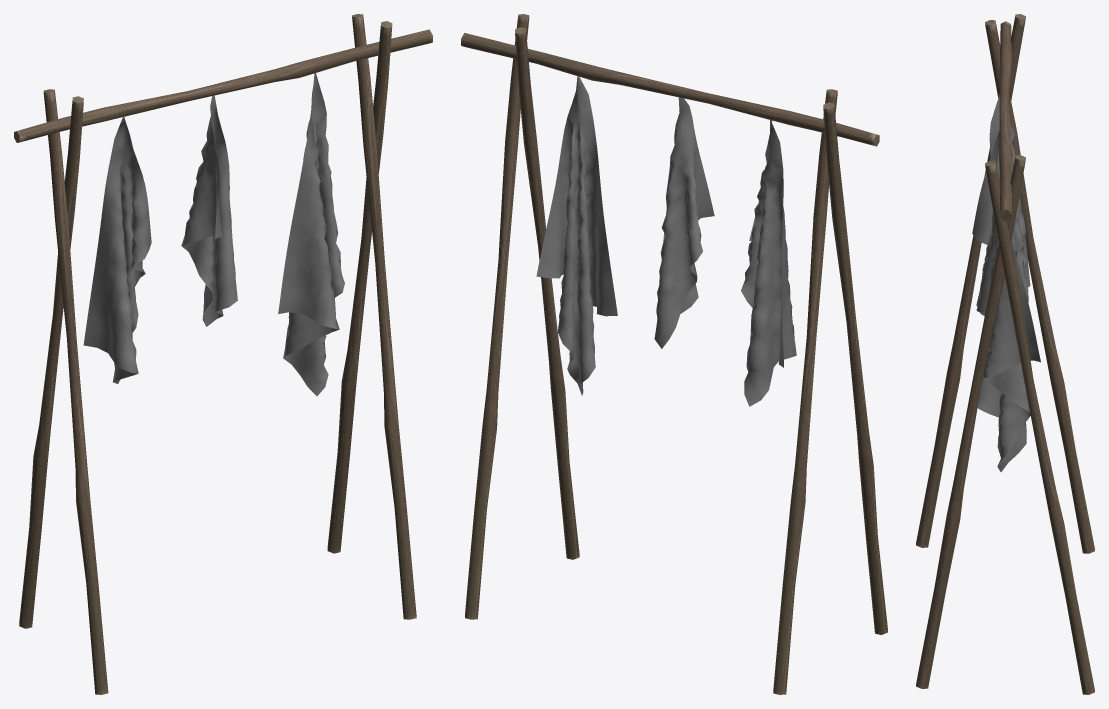
Rendered from SM_stand_cloth.fbx.
3 renders of one model, left to right at view 1: azimuth 30°, elevation 25°; view 2: azimuth 150°, elevation 25°; view 3: azimuth 270°, elevation 25°, orthographic. The views are drawn at different scales.
Parts seen in each view (by area): view 1: Object32568; view 2: Object32568; view 3: Object32568.
Part boxes in pixels (box(x1,y1,x2,y2)): Object32568: box(14, 14, 432, 694); Object32568: box(461, 14, 887, 694); Object32568: box(916, 14, 1094, 694).
Bounding box in the file's own units: 61.29 × 80.25 × 24.51.
